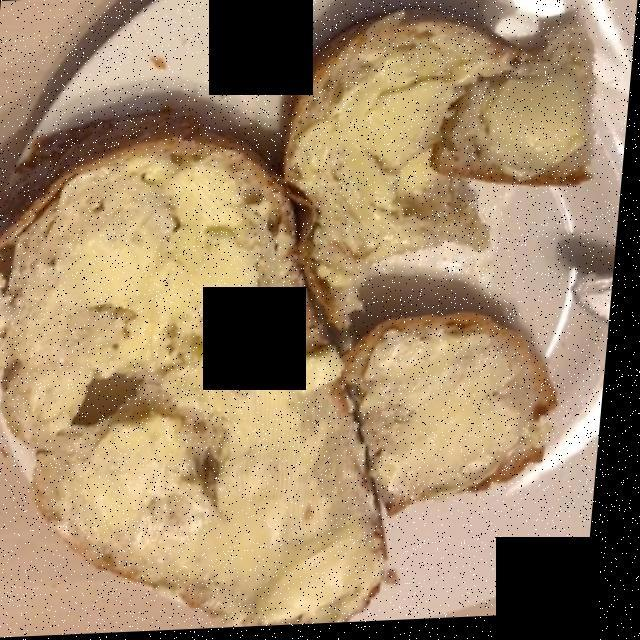bread: (0, 29, 592, 624)
butter: (0, 151, 380, 604)
